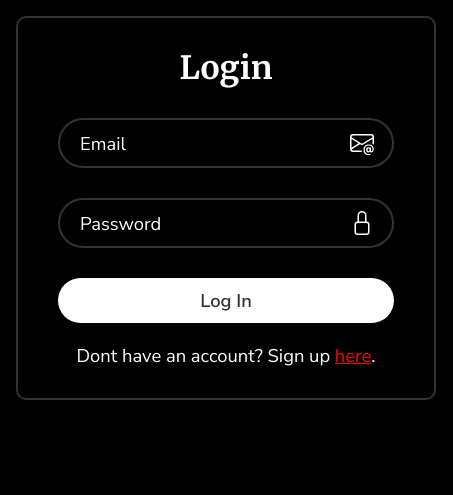
Test: login › errors › shows error when incorrect password
Type "test@gmail.com" into the field with placeholder "Email" at (226,143), box [58,118,394,168]
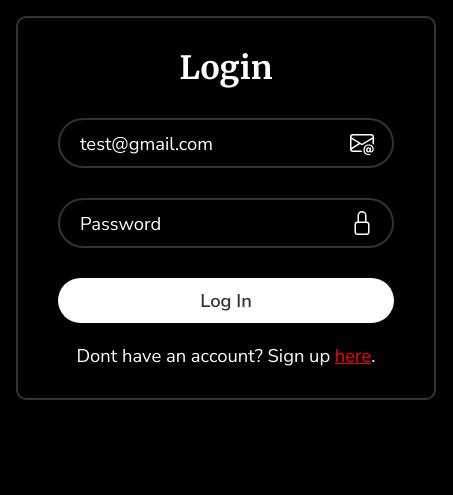
Type "testpassword" into the password field with placeholder "Password" at (226,223), box [58,198,394,248]
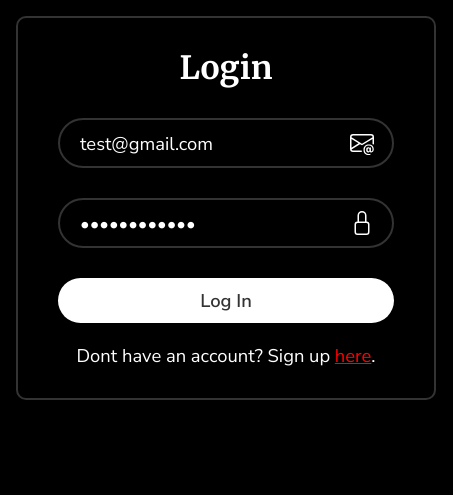
Click the button with test id "log-in-button" at (226,300), box [58,278,394,323]
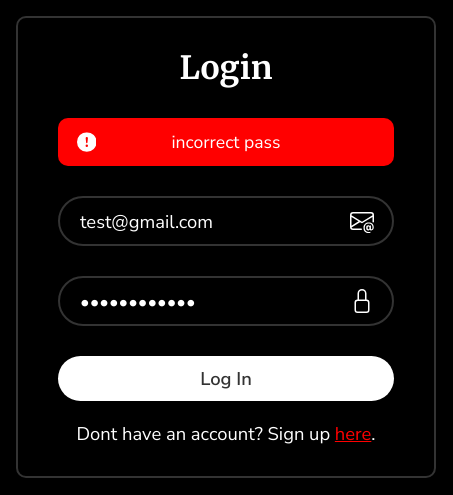
Expected: the text "incorrect pass" is shown, [58,118,394,166]
